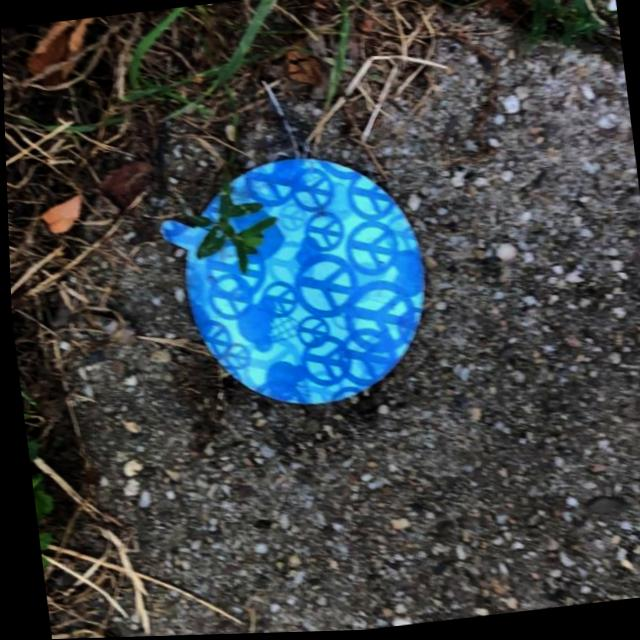Paper: (145, 139, 437, 425)
